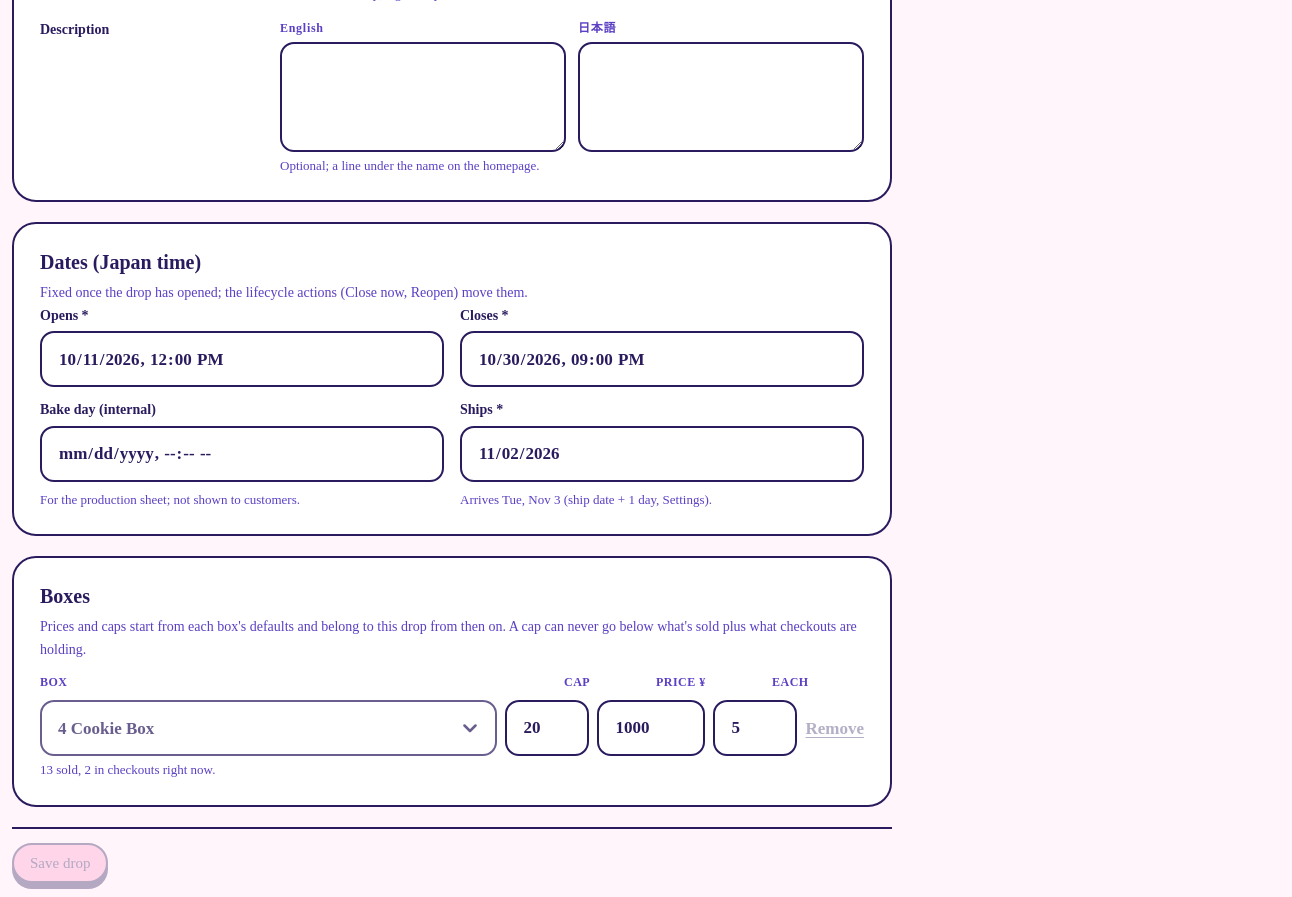
Test case: DropForm › marks and focuses the field the server turned down
The image size is (1292, 897).
(page scrolled)
Replace the text in the field named "Cap for box 1" with "10". click: x=548, y=728
box: [506,700,590,756]
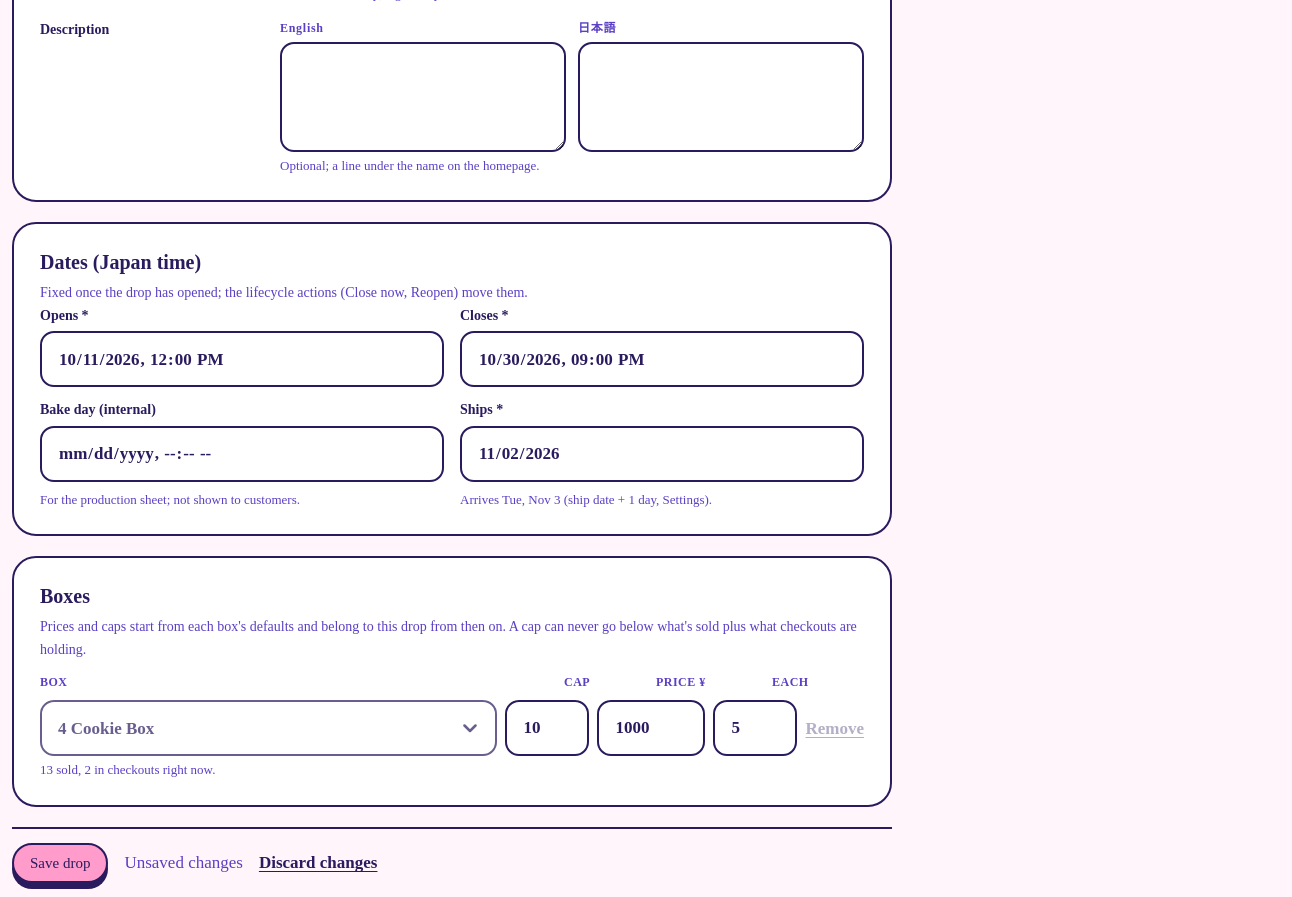
Click the button "Save drop". click: x=60, y=863
box: [12,843,108,883]
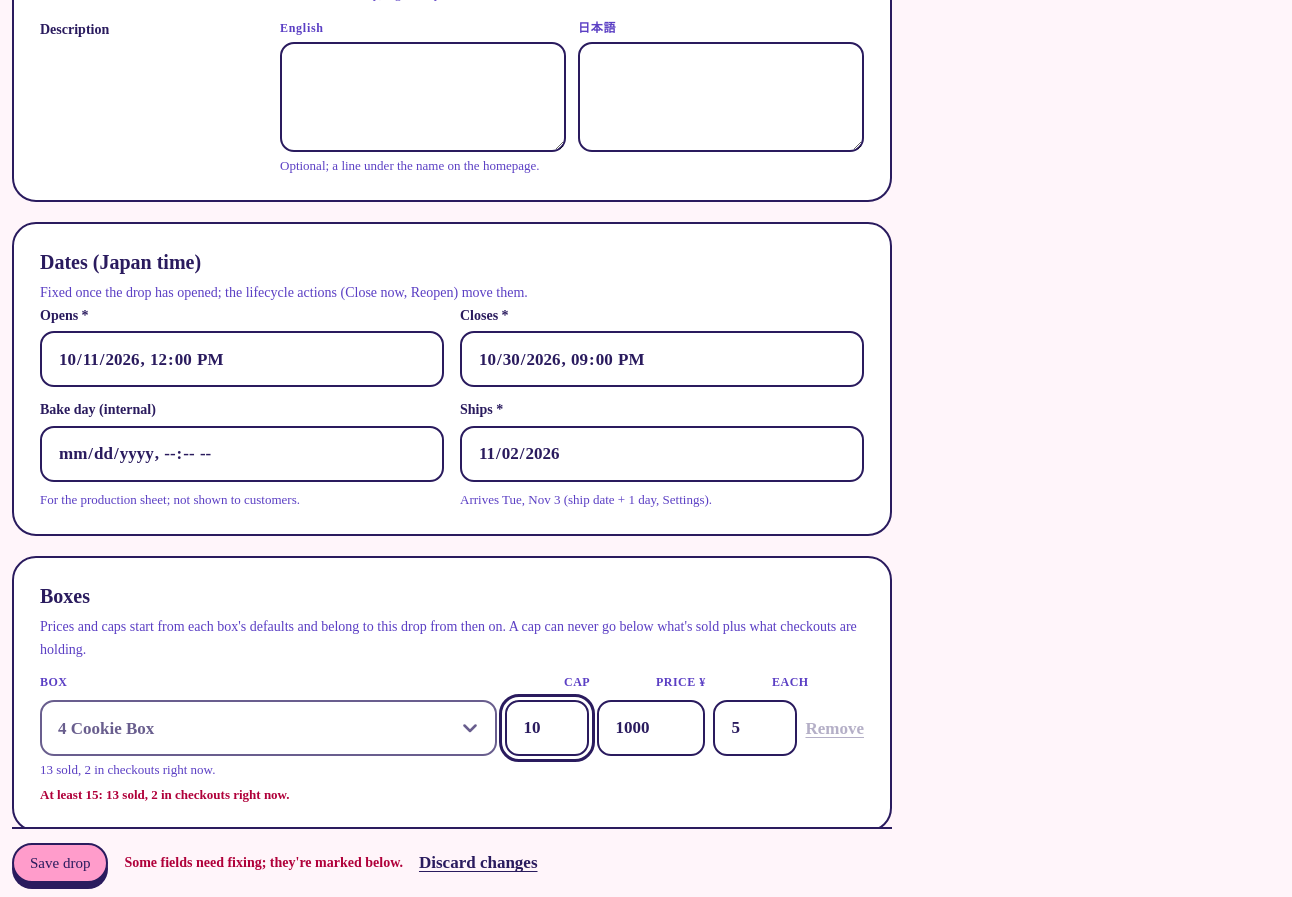
Expected: the message shows "need fixing", [124,855,403,870]
